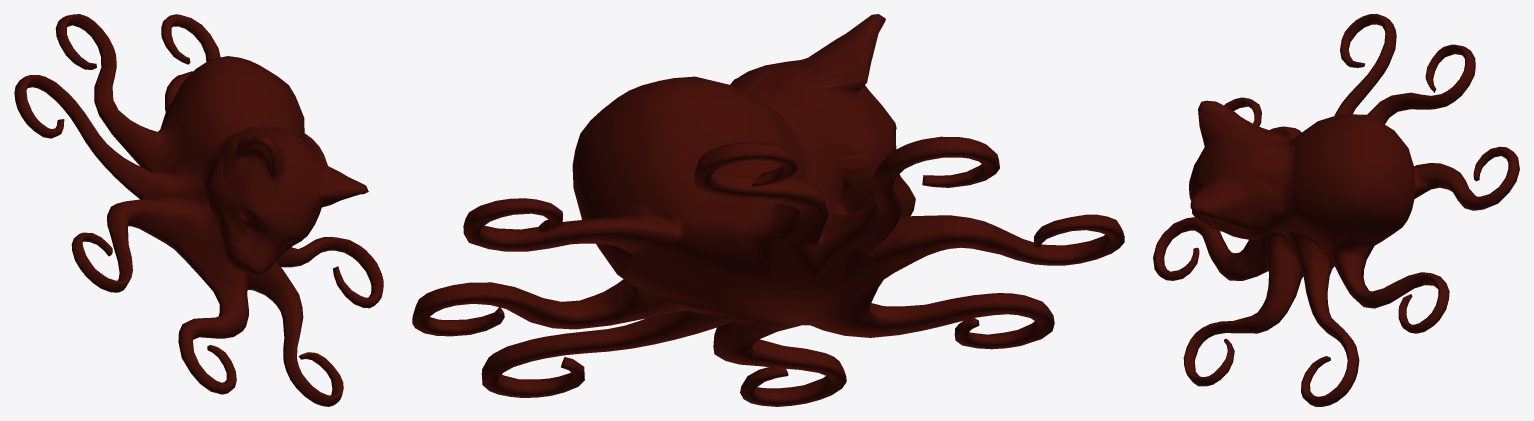
The model's file is bunnyA.obj.
3 renders of one model, left to right at view 1: azimuth 30°, elevation 25°; view 2: azimuth 150°, elevation 25°; view 3: azimuth 270°, elevation 25°, orthographic. The views are drawn at different scales.
Parts seen in each view (by area): view 1: bunnyA.018; view 2: bunnyA.018; view 3: bunnyA.018.
Part boxes in pixels (<box>): bunnyA.018: <box>14,14,383,406</box>; bunnyA.018: <box>412,14,1124,406</box>; bunnyA.018: <box>1153,14,1519,406</box>.
Size of the model in its own units: 120 by 98.68 by 116.
